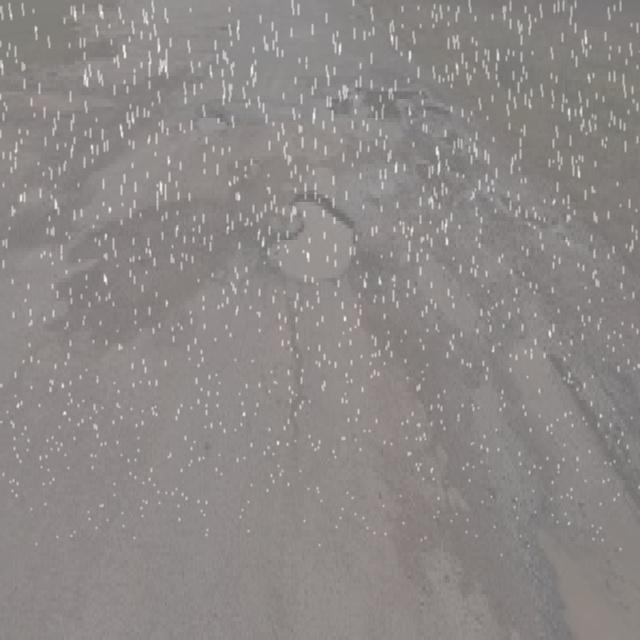Pothole: (498, 482, 640, 640), (262, 187, 380, 296), (330, 59, 431, 128), (183, 104, 246, 154)
